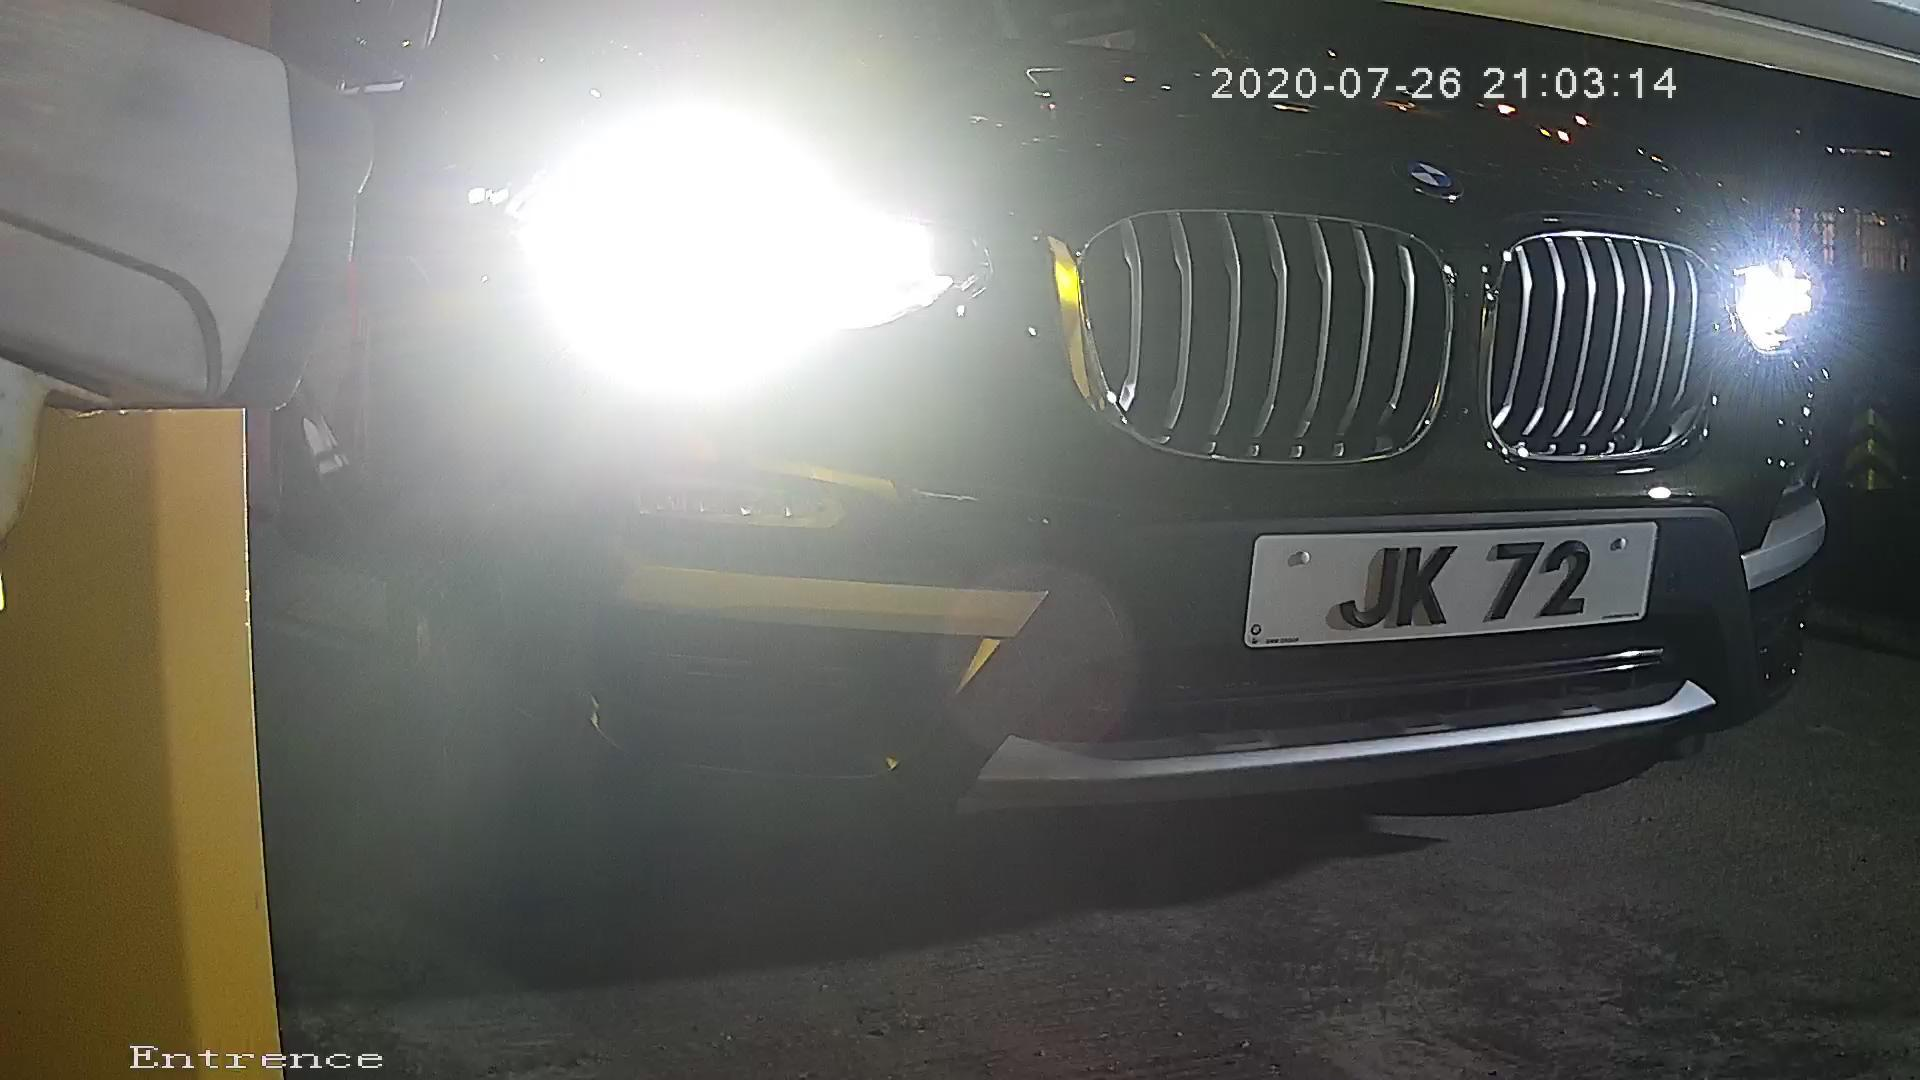Car: (35, 54, 1920, 892)
License Plate: (1218, 492, 1689, 647)
